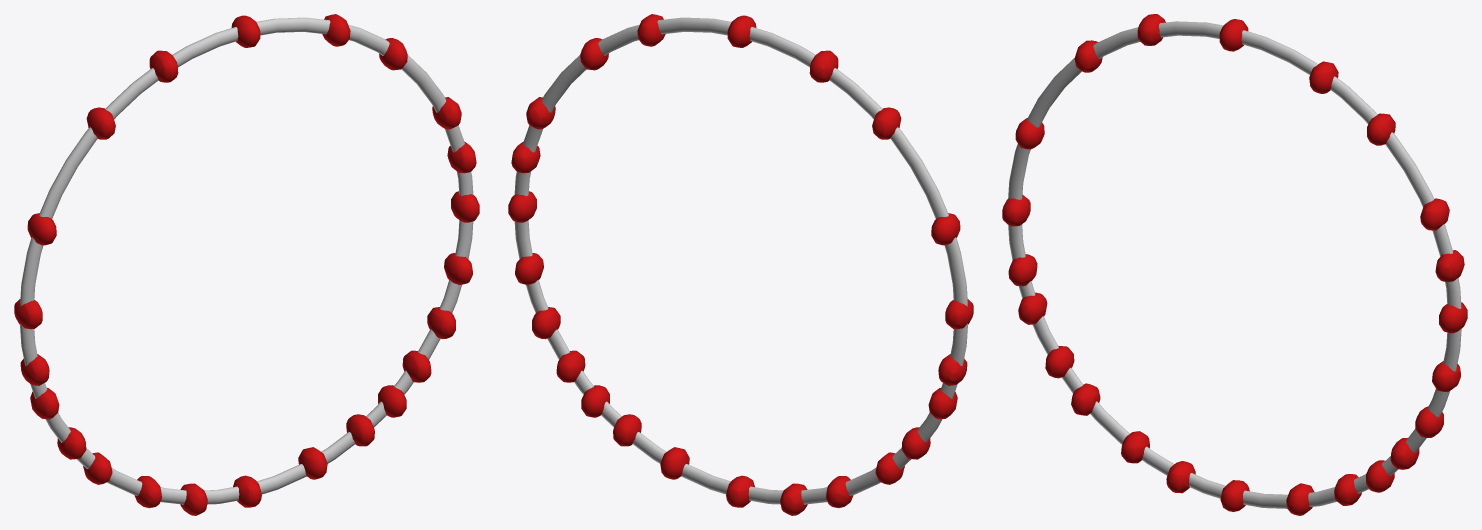
3 renders of one model, left to right at view 1: azimuth 30°, elevation 25°; view 2: azimuth 150°, elevation 25°; view 3: azimuth 330°, elevation 25°, orthographic.
Parts seen in each view (by area): view 1: Electron_Mball, Ring_Torus; view 2: Electron_Mball, Ring_Torus; view 3: Electron_Mball, Ring_Torus.
Part boxes in pixels (left/top/right/bottom): Electron_Mball: left=14, top=14, right=479, bottom=515; Ring_Torus: left=20, top=17, right=473, bottom=504; Electron_Mball: left=508, top=14, right=973, bottom=515; Ring_Torus: left=514, top=17, right=967, bottom=504; Electron_Mball: left=1002, top=14, right=1467, bottom=515; Ring_Torus: left=1008, top=21, right=1461, bottom=508.
Bounding box in the file's own units: 2.91 × 2.96 × 0.2136.
